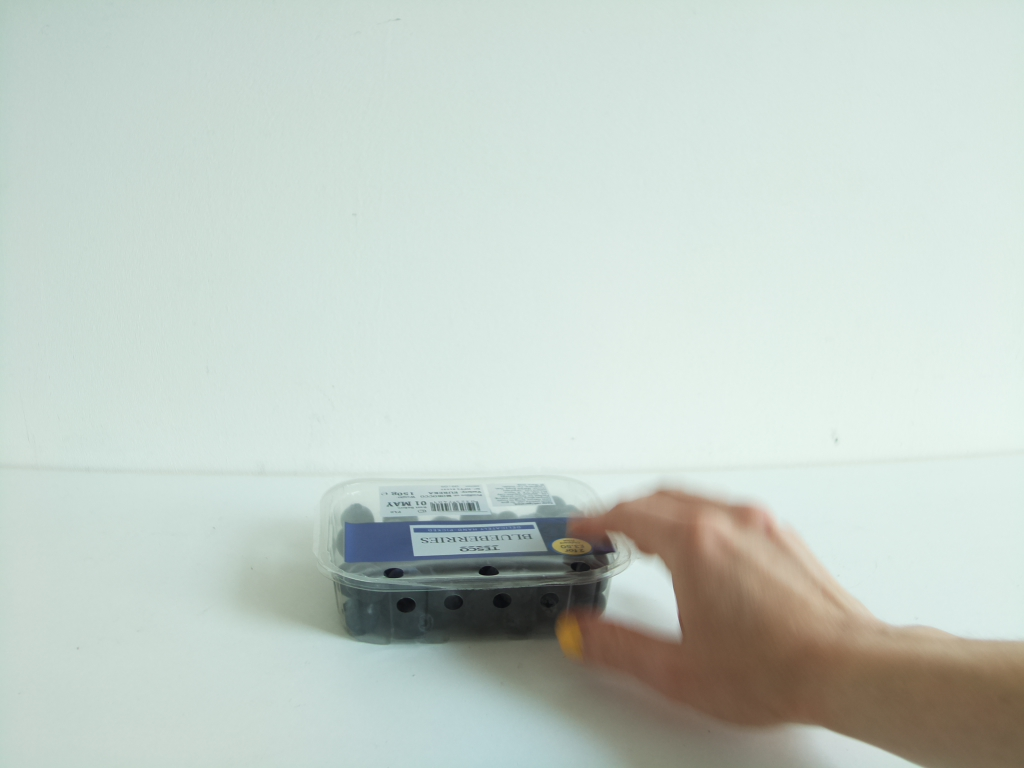soft-fruit: (315, 473, 631, 647)
